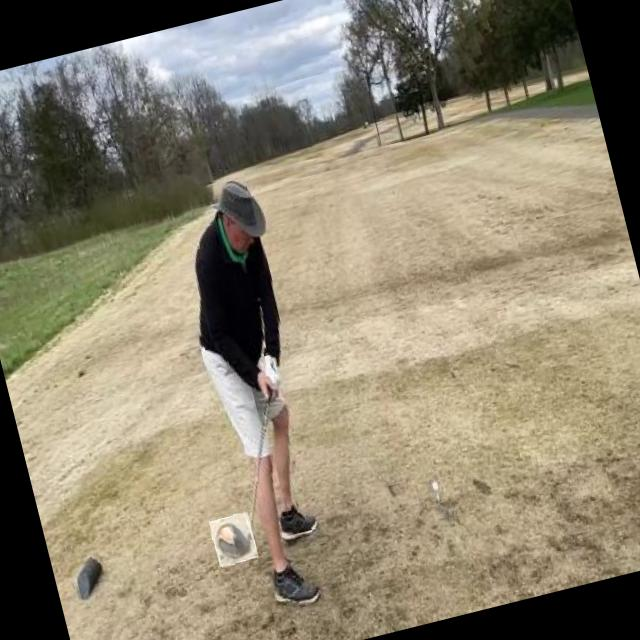club head: (208, 512, 258, 566)
